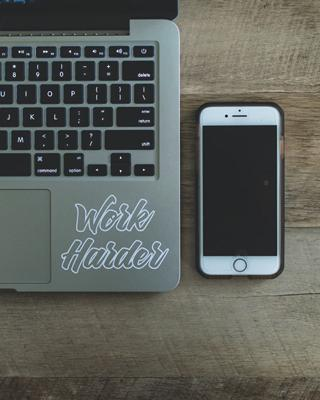cell-phone: (194, 97, 291, 285)
